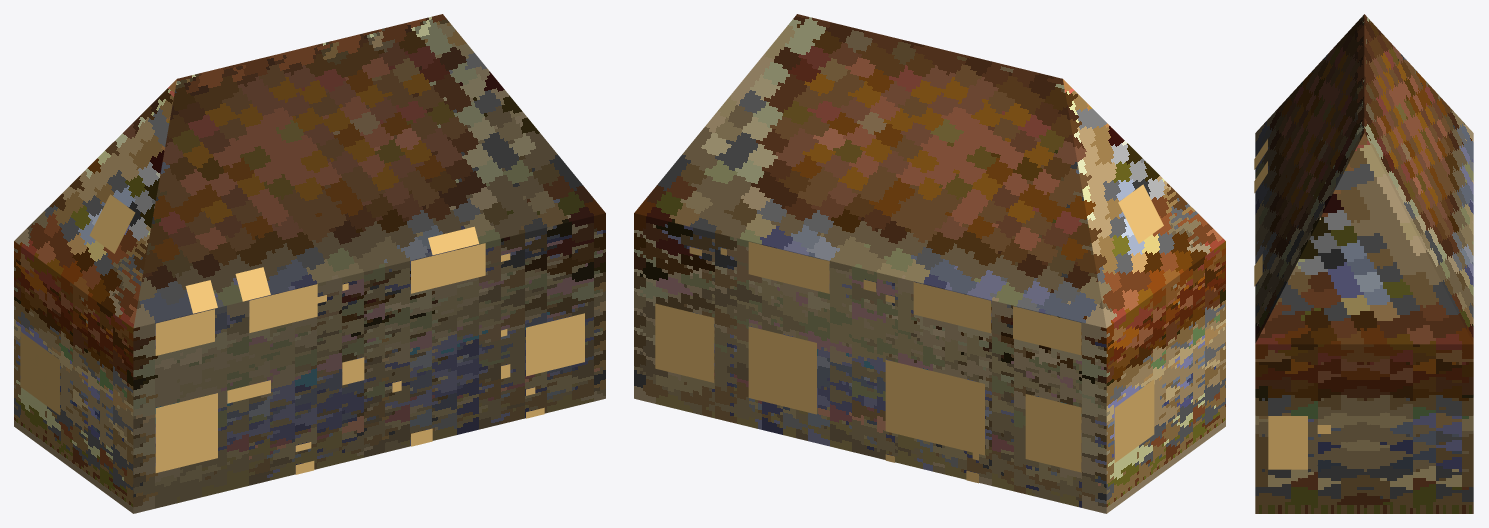
Rendered from dum_38_domy_0.glb.
3 views of the same model, side by side, from view 1: azimuth 30°, elevation 25°; view 2: azimuth 150°, elevation 25°; view 3: azimuth 270°, elevation 25° (orthographic). The views are drawn at different scales.
Parts seen in each view (by area): view 1: object 1, noc; view 2: object 1, noc; view 3: object 1, noc.
Part boxes in pixels (x1,y1,x2,y2): object 1: (14, 14, 605, 513); noc: (20, 194, 584, 474); object 1: (634, 14, 1225, 513); noc: (655, 184, 1163, 483); object 1: (1255, 14, 1473, 513); noc: (1254, 139, 1330, 469).
Size of the model in its own units: 9.53 by 7.03 by 4.19.
Materials: 1 (1 with a texture image).
